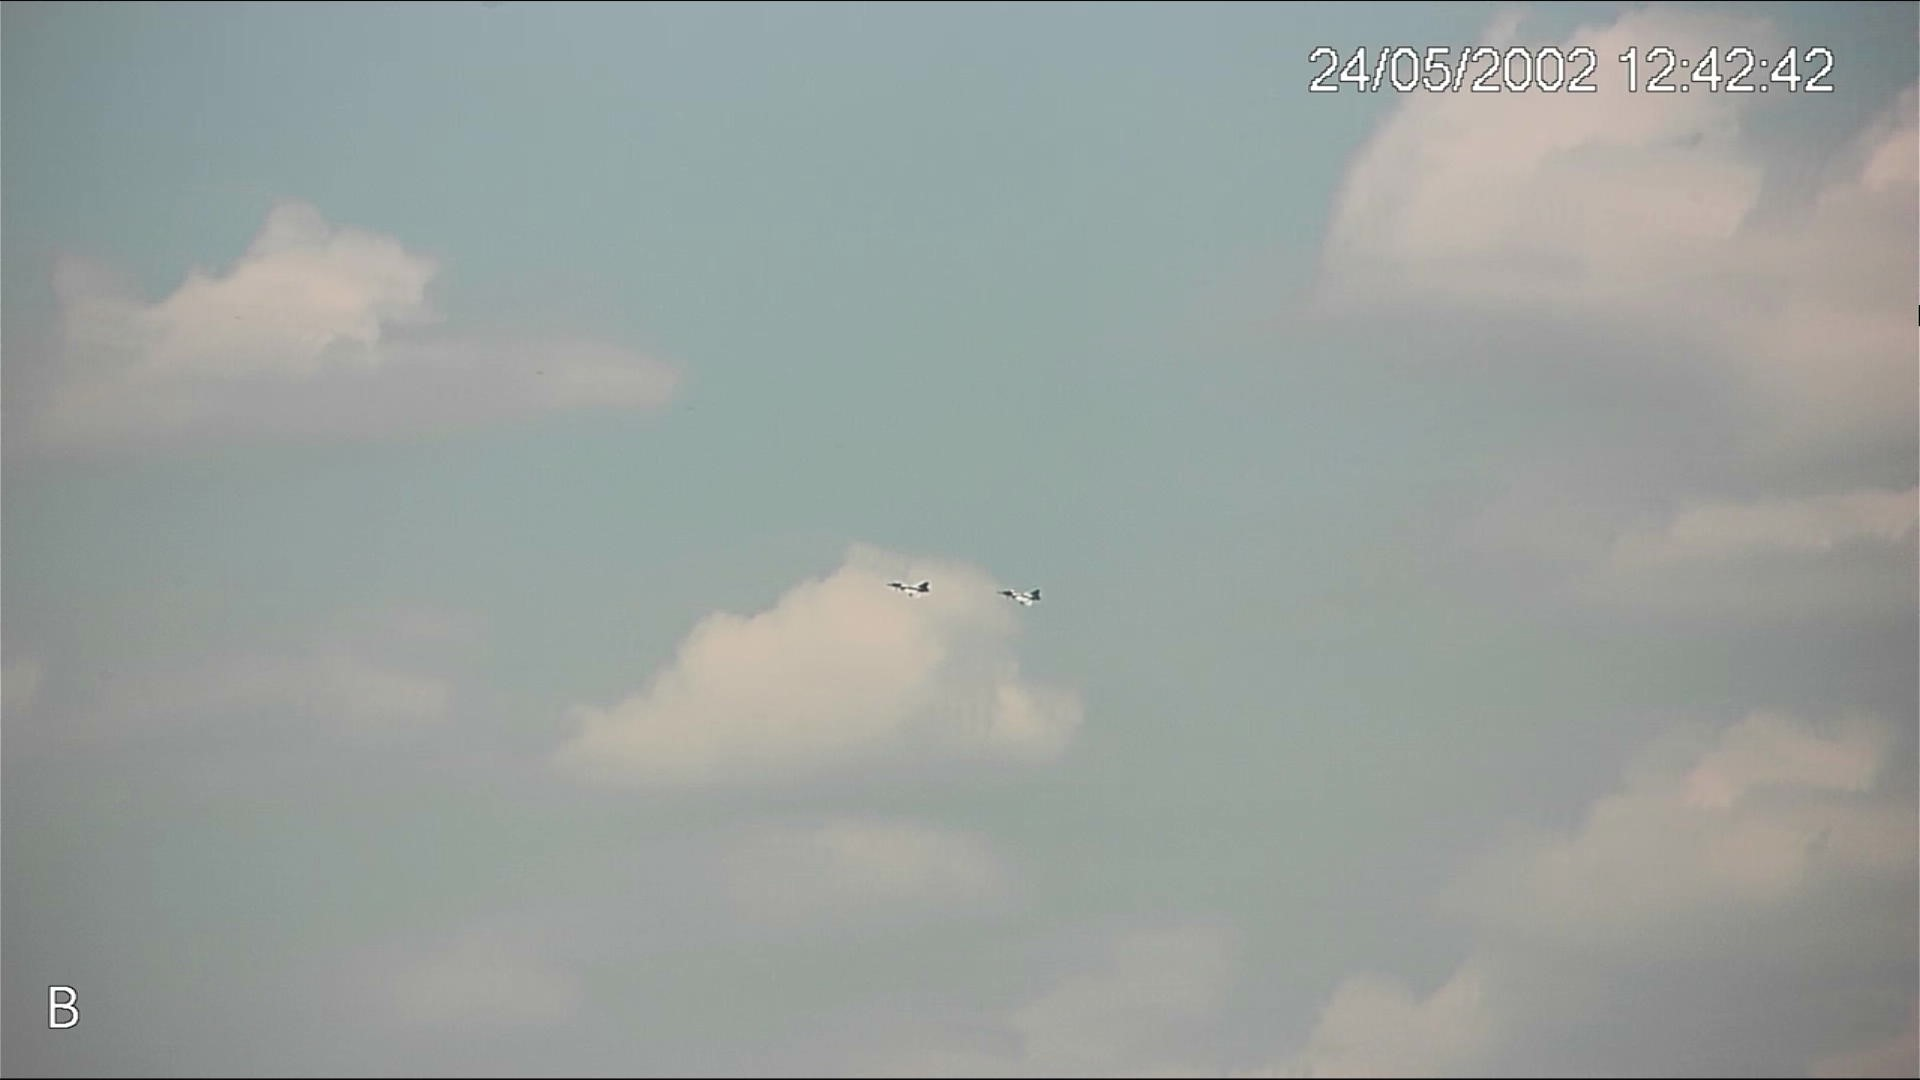SU_30: (996, 585, 1043, 608), (889, 578, 931, 597)
